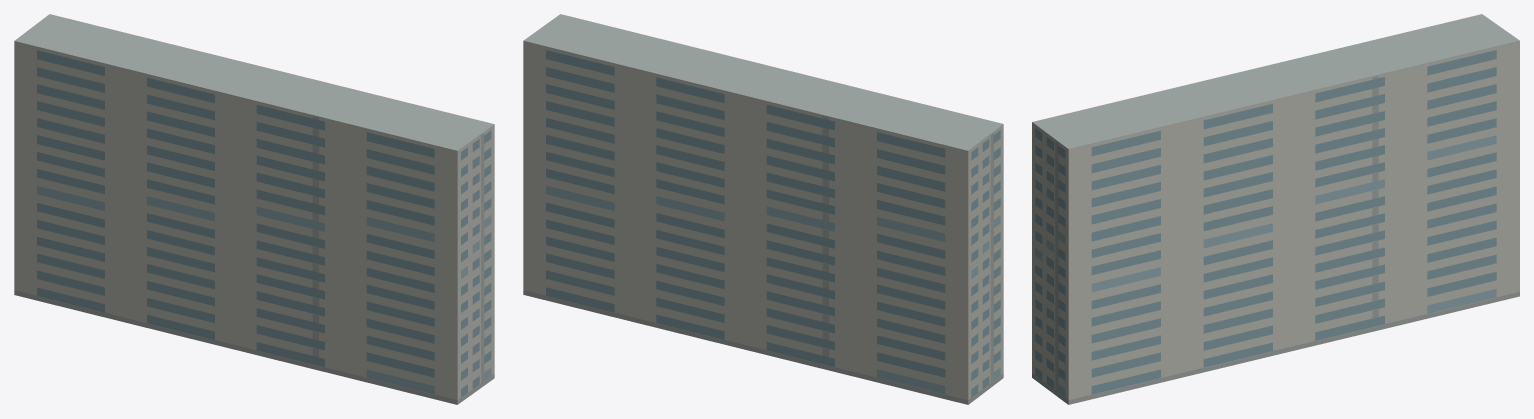
Rendered from residential-2030ca11-1cee-4f14-b3db-9cd77c51450f.glb.
The picture shows the model from 3 angles, left to right: view 1: azimuth 30°, elevation 25°; view 2: azimuth 210°, elevation 25°; view 3: azimuth 270°, elevation 25°; orthographic projection.
Visible parts, largest first — view 1: residential-2030ca11-1cee-4f14-b3db-9cd77c51450f.tmp; view 2: residential-2030ca11-1cee-4f14-b3db-9cd77c51450f.tmp; view 3: residential-2030ca11-1cee-4f14-b3db-9cd77c51450f.tmp.
Part boxes in pixels (x1,y1,x2,y2): residential-2030ca11-1cee-4f14-b3db-9cd77c51450f.tmp: (14,14,494,404); residential-2030ca11-1cee-4f14-b3db-9cd77c51450f.tmp: (523,14,1003,404); residential-2030ca11-1cee-4f14-b3db-9cd77c51450f.tmp: (1032,14,1519,404).
Bounding box in the file's own units: 51.81 × 45.75 × 79.05.
